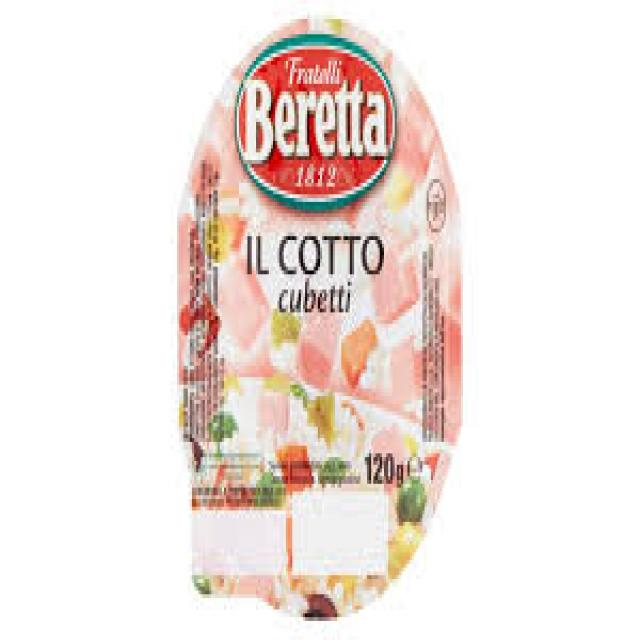Ham: (175, 11, 474, 625)
